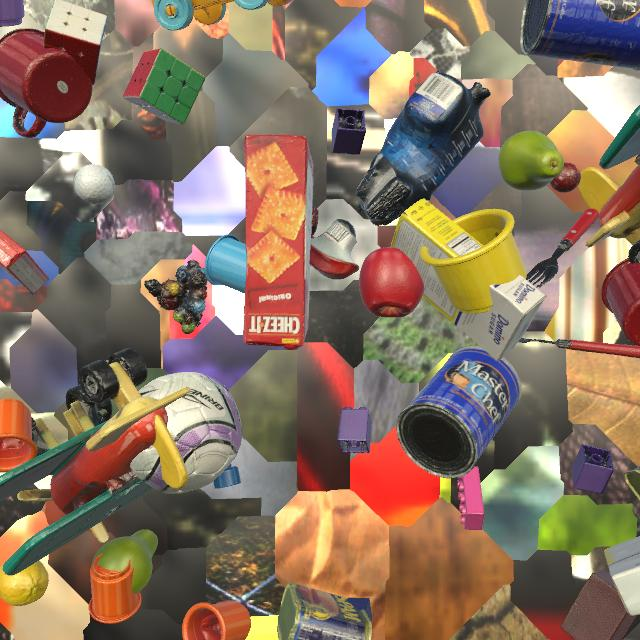ycb_002_master_chef_can: (396, 346, 522, 479), (520, 0, 640, 71)
ycb_003_cracker_box: (243, 135, 314, 347)
ycb_004_sugar_box: (390, 198, 546, 361), (604, 536, 640, 616)
ycb_009_gelatin_box: (0, 229, 49, 295)
ycb_010_potted_meat_can: (277, 582, 372, 640), (624, 466, 640, 501)
ycb_013_apple: (359, 247, 424, 318)
ycb_014_lemon: (0, 560, 49, 606)
ycb_016_pear: (91, 529, 158, 594), (498, 131, 564, 191)
